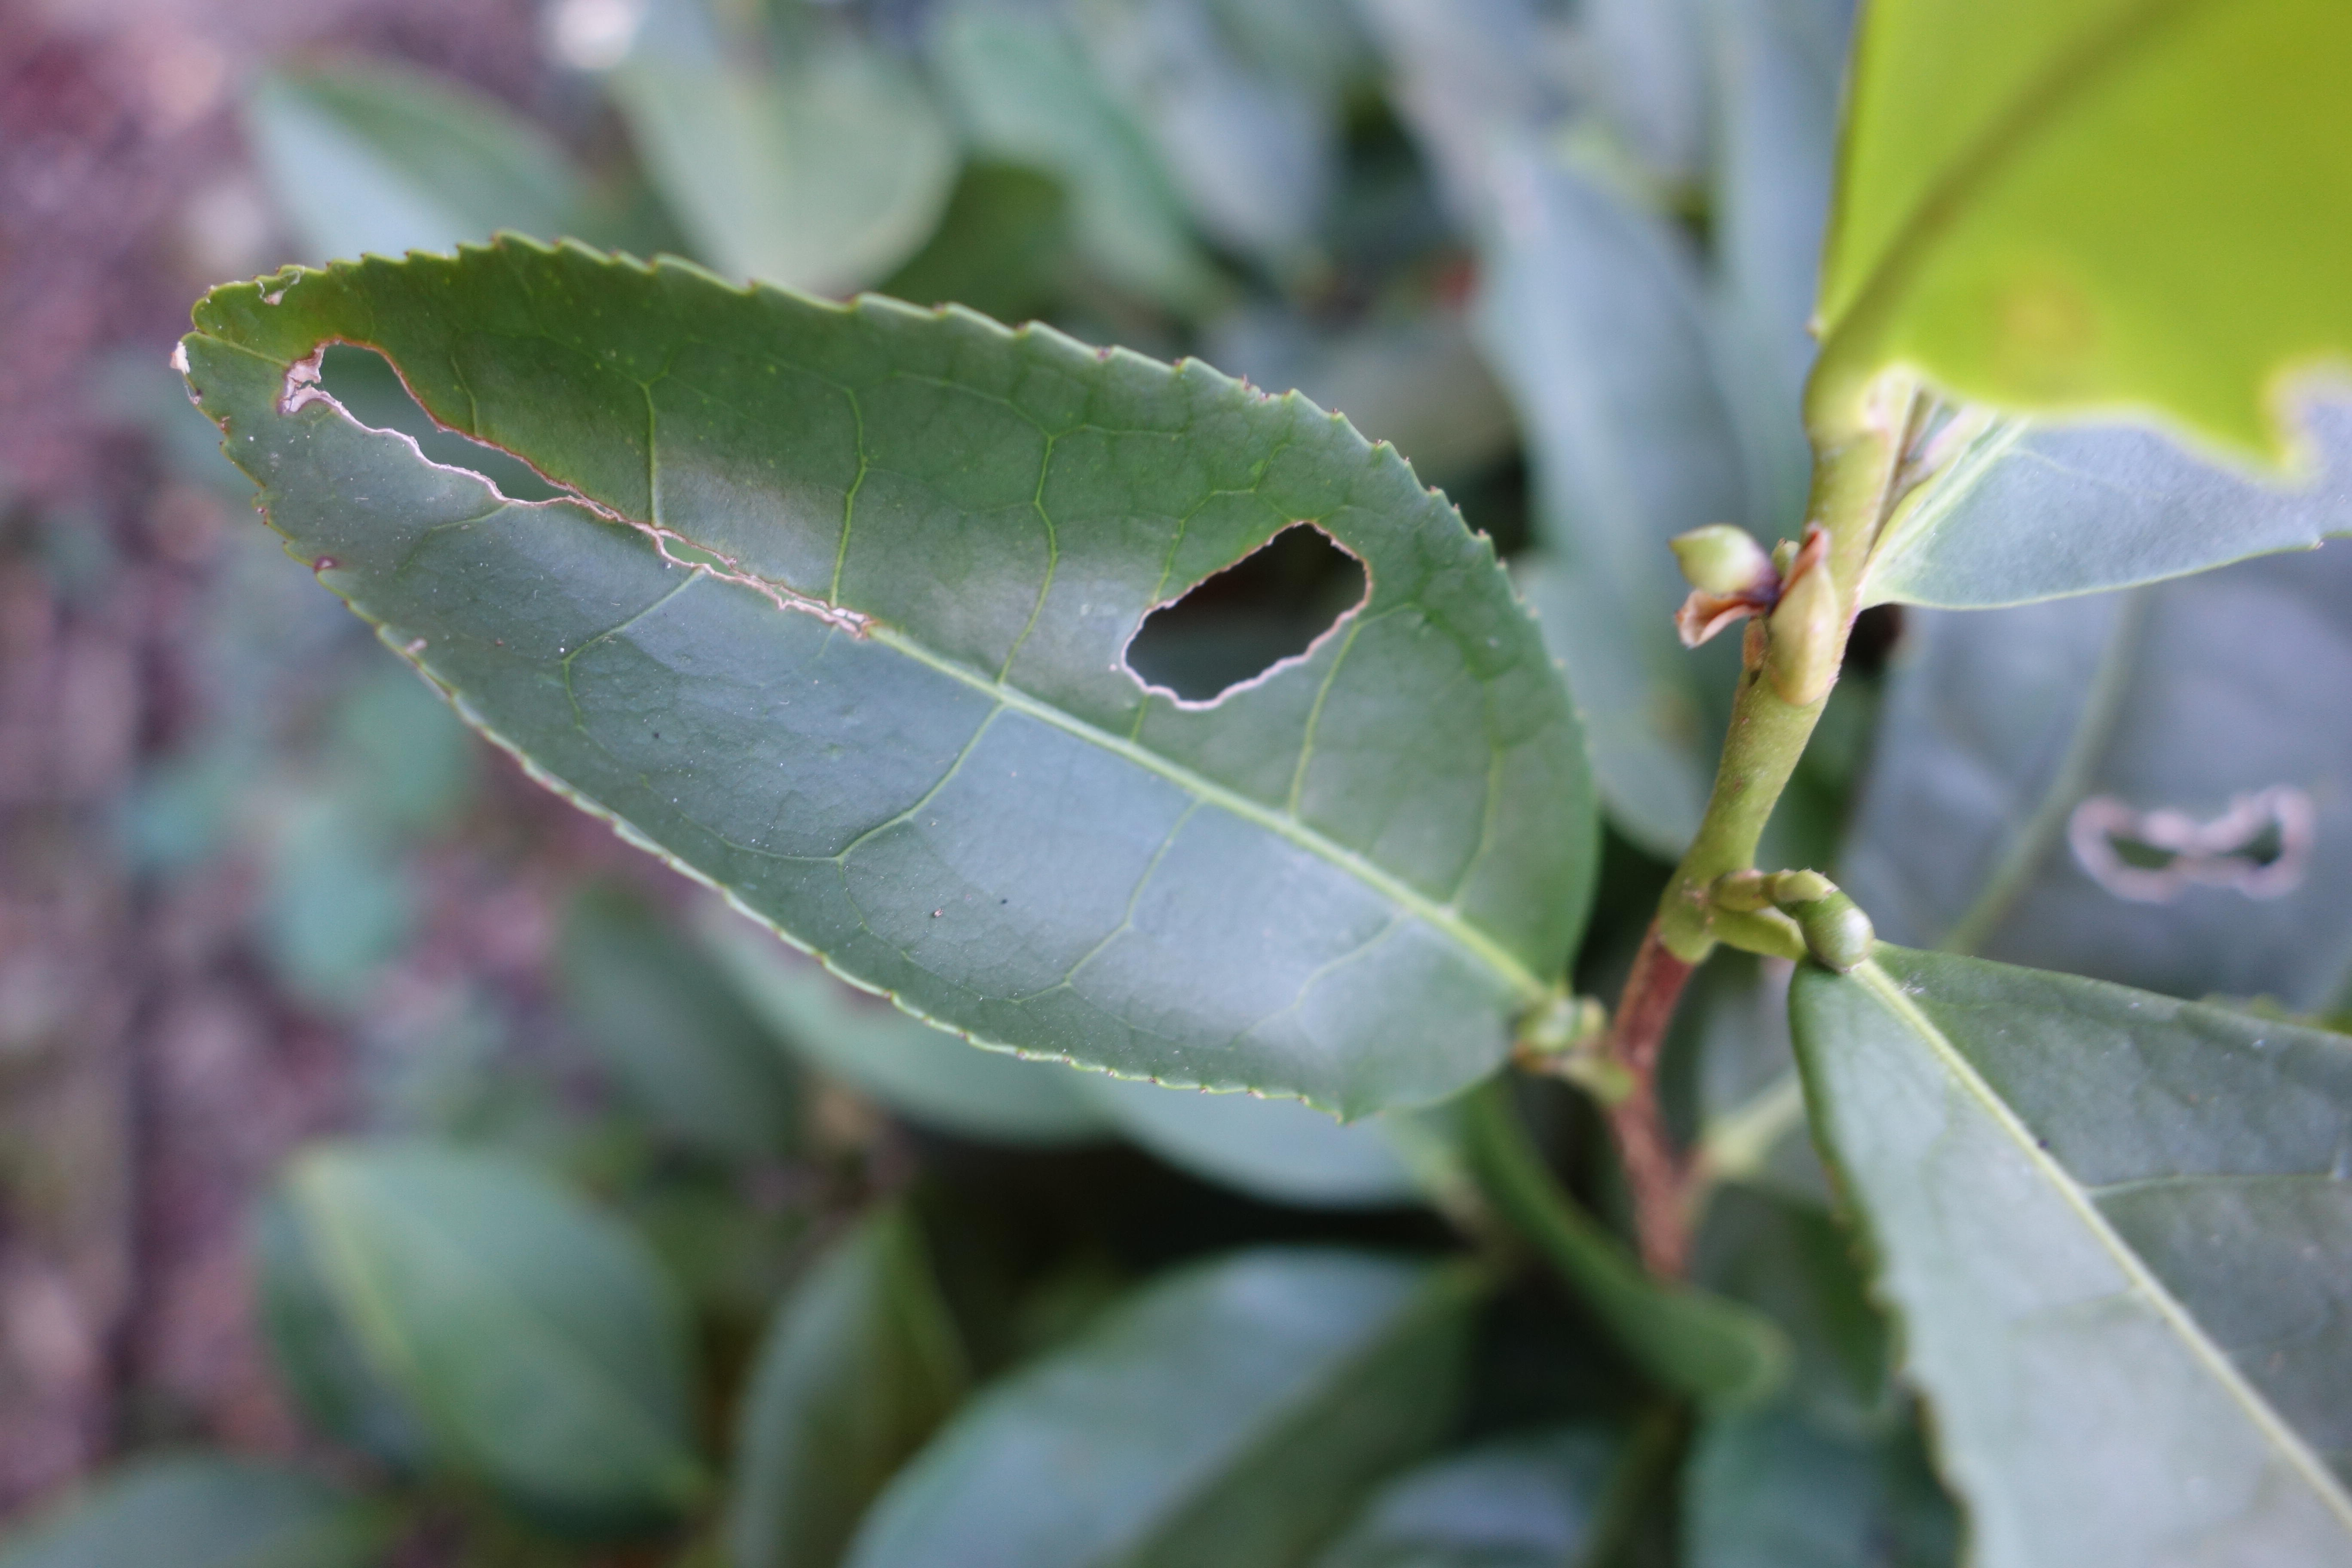chihuo_high: (171, 227, 1606, 1122)
